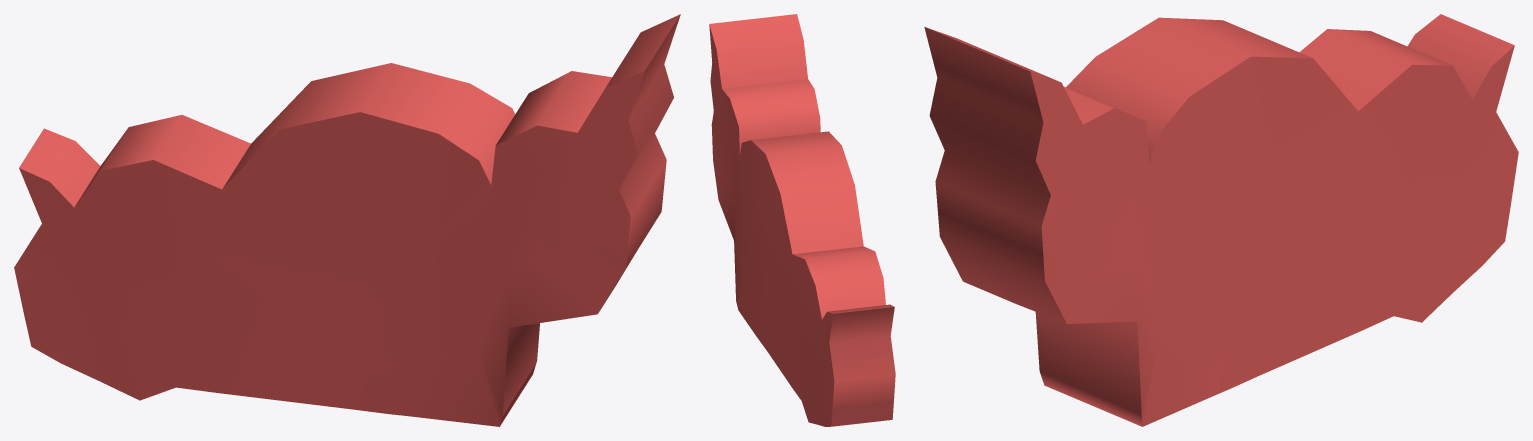
File: BRoofTopCornerTrim_C.fbx
3 renders of one model, left to right at view 1: azimuth 30°, elevation 25°; view 2: azimuth 150°, elevation 25°; view 3: azimuth 270°, elevation 25°, orthographic. The views are drawn at different scales.
Parts seen in each view (by area): view 1: BRoofTopCornerTrim_C; view 2: BRoofTopCornerTrim_C; view 3: BRoofTopCornerTrim_C.
Boxes of the visible parts, bbox=[...] form: BRoofTopCornerTrim_C: bbox=[14, 14, 680, 426]; BRoofTopCornerTrim_C: bbox=[709, 14, 895, 426]; BRoofTopCornerTrim_C: bbox=[924, 14, 1518, 426].
Bounding box in the file's own units: 244 × 193 × 244.
